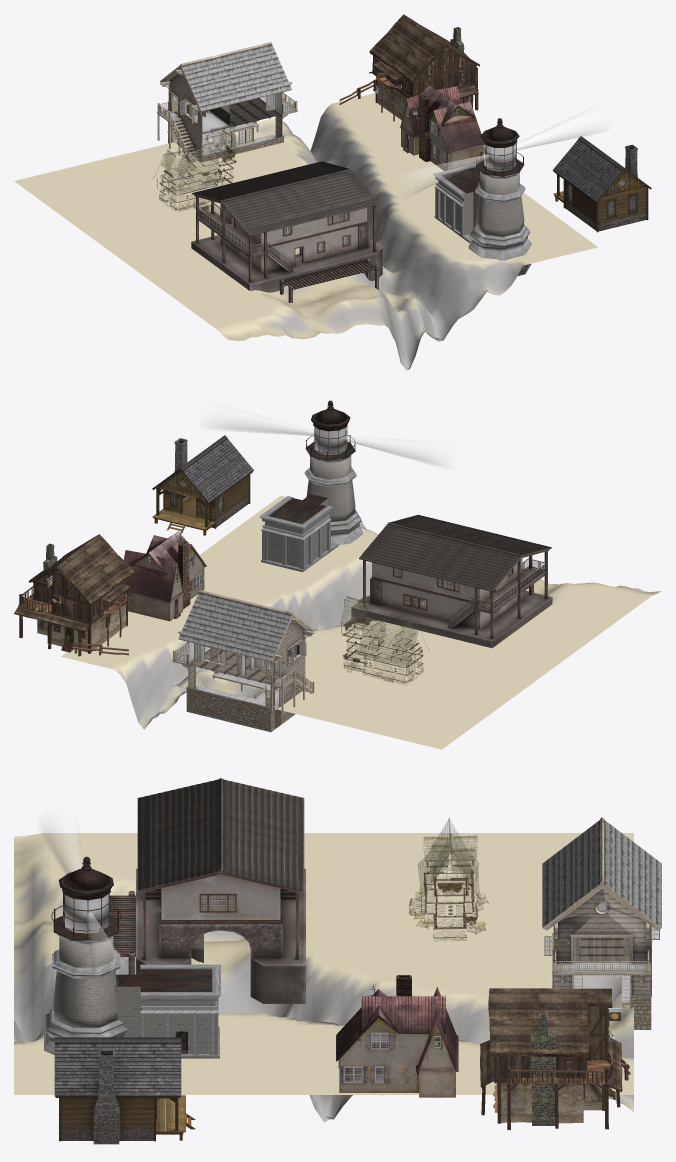
3 renders of one model, top to bottom at view 1: azimuth 30°, elevation 25°; view 2: azimuth 150°, elevation 25°; view 3: azimuth 270°, elevation 25°, orthographic. The views are drawn at different scales.
Parts seen in each view (by area): view 1: Terrain 6,0, prim0-mesh_0 (×4), Lighthouse 1 Textured, ROOST - Lake Side Boathouse (×5), Nice Boat House 37, DrawCall_0Mesh (×2), dust bunny hill top cottage 1 (×5), maison des voleurs (×2), Winter cabin#16, light (×2), Winter cabin#17, Winter cabin#14; view 2: Terrain 6,0, prim0-mesh_0 (×3), ROOST - Lake Side Boathouse (×5), DrawCall_0Mesh (×2), Lighthouse 1 Textured, Nice Boat House 37, dust bunny hill top cottage 1 (×4), maison des voleurs (×2), light (×2), Winter cabin#16, Winter cabin#17, Winter cabin#3 (+1 smaller); view 3: Terrain 6,0, Lighthouse 1 Textured, DrawCall_0Mesh (×2), ROOST - Lake Side Boathouse (×6), Nice Boat House 37, prim0-mesh_0 (×3), dust bunny hill top cottage 1 (×5), Winter cabin#16, maison des voleurs (×2), Winter cabin#17, light (×2), Tromso Winter cabin 17 prims (+1 smaller).
Boxes of the visible parts, x1=… form: Terrain 6,0: x1=14, y1=93, x2=597, y2=370; prim0-mesh_0 (×4): x1=191, y1=197, x2=382, y2=302; Lighthouse 1 Textured: x1=433, y1=118, x2=531, y2=275; ROOST - Lake Side Boathouse (×5): x1=160, y1=42, x2=291, y2=155; Nice Boat House 37: x1=192, y1=161, x2=379, y2=236; DrawCall_0Mesh (×2): x1=369, y1=14, x2=479, y2=121; dust bunny hill top cottage 1 (×5): x1=400, y1=85, x2=484, y2=170; maison des voleurs (×2): x1=152, y1=124, x2=239, y2=210; Winter cabin#16: x1=552, y1=136, x2=651, y2=202; light (×2): x1=401, y1=110, x2=596, y2=193; Winter cabin#17: x1=563, y1=179, x2=648, y2=232; Winter cabin#14: x1=600, y1=170, x2=647, y2=199; Terrain 6,0: x1=61, y1=495, x2=661, y2=749; prim0-mesh_0 (×3): x1=351, y1=551, x2=552, y2=648; ROOST - Lake Side Boathouse (×5): x1=178, y1=590, x2=313, y2=732; DrawCall_0Mesh (×2): x1=14, y1=534, x2=135, y2=656; Lighthouse 1 Textured: x1=259, y1=400, x2=362, y2=572; Nice Boat House 37: x1=359, y1=514, x2=551, y2=591; dust bunny hill top cottage 1 (×4): x1=123, y1=531, x2=206, y2=621; maison des voleurs (×2): x1=339, y1=596, x2=429, y2=682; light (×2): x1=214, y1=404, x2=443, y2=466; Winter cabin#16: x1=152, y1=435, x2=253, y2=503; Winter cabin#17: x1=163, y1=474, x2=250, y2=528; Winter cabin#3: x1=152, y1=487, x2=224, y2=535; Terrain 6,0: x1=14, y1=833, x2=633, y2=1122; Lighthouse 1 Textured: x1=44, y1=856, x2=220, y2=1058; DrawCall_0Mesh (×2): x1=480, y1=988, x2=622, y2=1129; ROOST - Lake Side Boathouse (×6): x1=542, y1=817, x2=661, y2=1029; Nice Boat House 37: x1=137, y1=778, x2=304, y2=892; prim0-mesh_0 (×3): x1=109, y1=868, x2=305, y2=1003; dust bunny hill top cottage 1 (×5): x1=336, y1=987, x2=458, y2=1097; Winter cabin#16: x1=54, y1=1037, x2=181, y2=1097; maison des voleurs (×2): x1=409, y1=818, x2=488, y2=937; Winter cabin#17: x1=59, y1=1098, x2=156, y2=1141; light (×2): x1=43, y1=815, x2=124, y2=972; Tromso Winter cabin 17 prims: x1=93, y1=1050, x2=195, y2=1144.
Size of what is drawn, in the model's own units: 76.89 by 34.91 by 66.9.
Materials: 244 (243 with a texture image).
